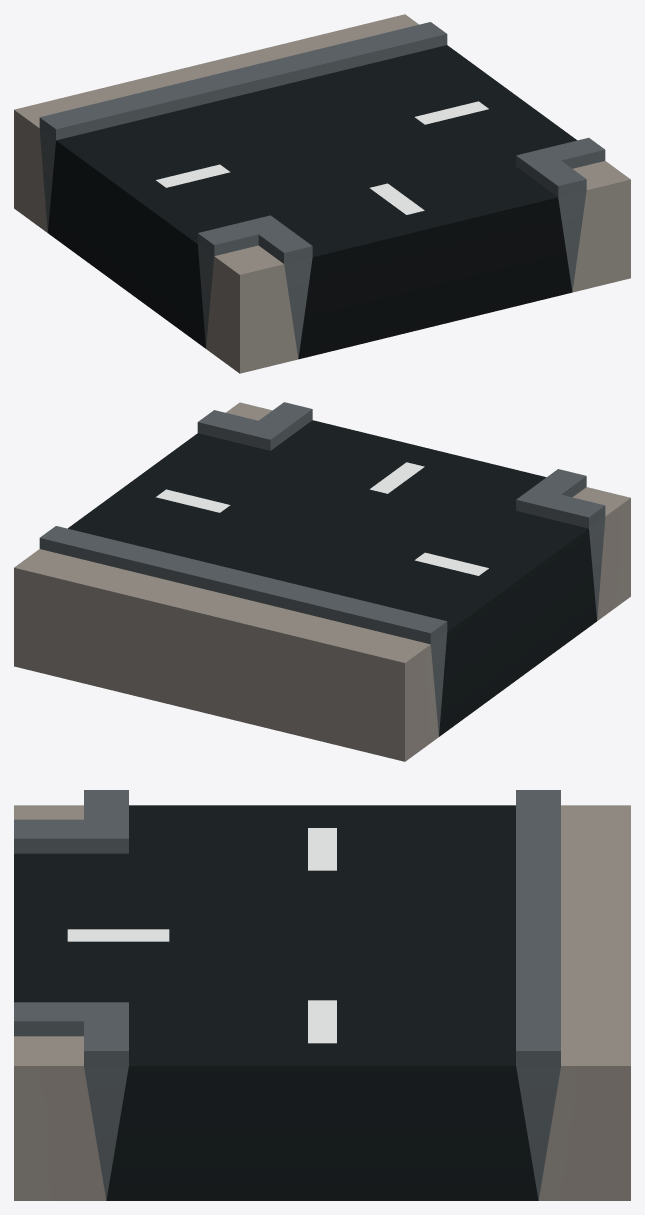
The model's file is CARRETERA 3 TIERRA.fbx.
3 views of the same model, one above another, from view 1: azimuth 30°, elevation 25°; view 2: azimuth 150°, elevation 25°; view 3: azimuth 270°, elevation 25° (orthographic). The views are drawn at different scales.
Visible parts, largest first — view 1: tres.001; view 2: tres.001; view 3: tres.001.
Boxes of the visible parts, x1=… form: tres.001: x1=14, y1=14, x2=630, y2=373; tres.001: x1=14, y1=402, x2=630, y2=761; tres.001: x1=14, y1=790, x2=630, y2=1200.
Bounding box in the file's own units: 900 × 242 × 900.
Materials: 1 (1 with a texture image).
